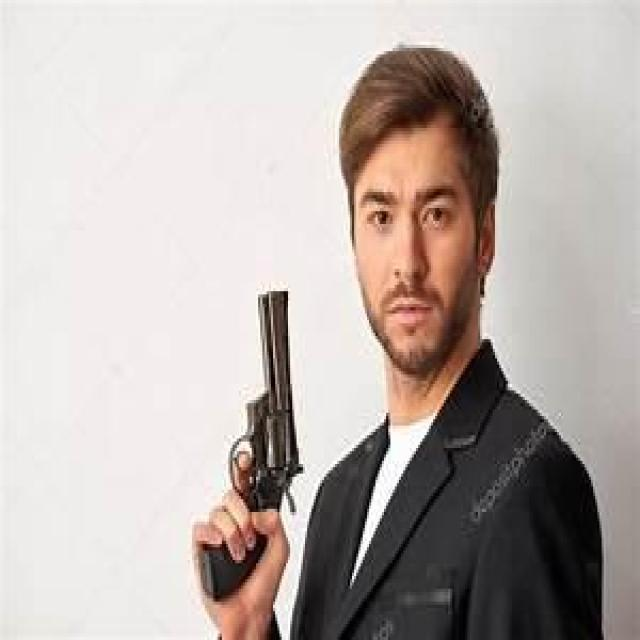Handgun: (192, 280, 310, 624)
